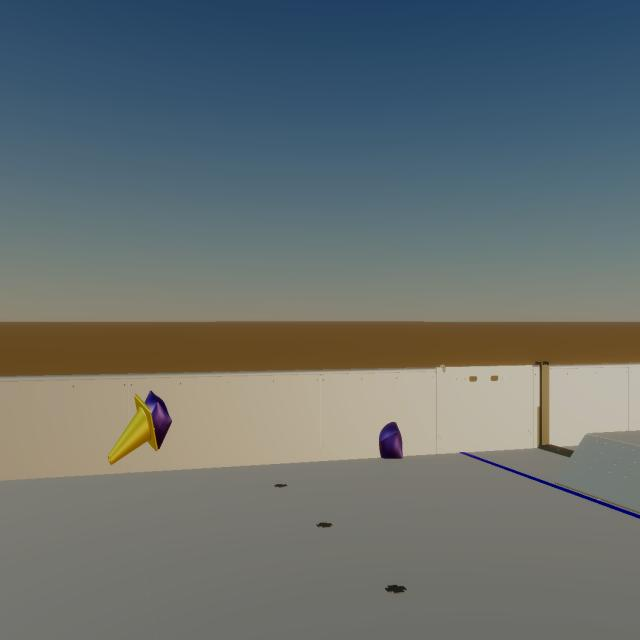frc_cone: (108, 394, 158, 465)
frc_cube: (145, 391, 172, 449), (379, 422, 403, 459)
